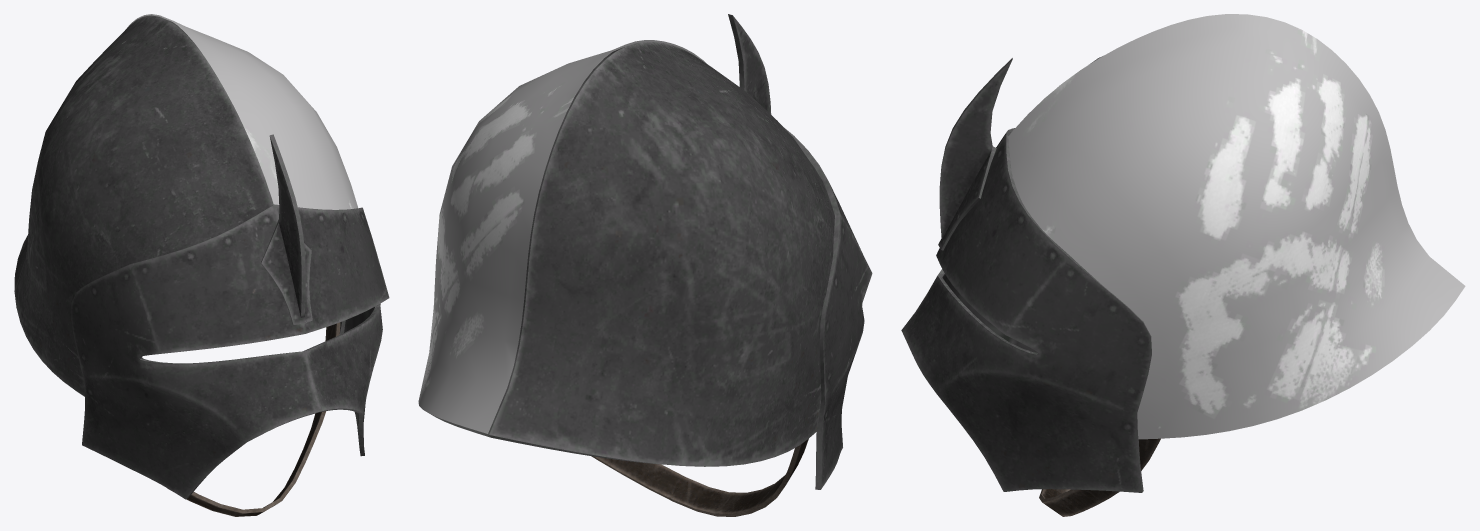
File: sk_uruk_hai_helmet_spear_light_a2.fbx
3 views of the same model, side by side, from view 1: azimuth 30°, elevation 25°; view 2: azimuth 150°, elevation 25°; view 3: azimuth 270°, elevation 25° (orthographic). The views are drawn at different scales.
Visible parts, largest first — view 1: sk_uruk_hai_helmet_spear_light_a2.2, sk_uruk_hai_helmet_spear_light_a2.0, sk_uruk_hai_helmet_spear_light_a2.1; view 2: sk_uruk_hai_helmet_spear_light_a2.2, sk_uruk_hai_helmet_spear_light_a2.0, sk_uruk_hai_helmet_spear_light_a2.1; view 3: sk_uruk_hai_helmet_spear_light_a2.0, sk_uruk_hai_helmet_spear_light_a2.2, sk_uruk_hai_helmet_spear_light_a2.1.
Part boxes in pixels (<box>): sk_uruk_hai_helmet_spear_light_a2.2: <box>14,15,389,499</box>; sk_uruk_hai_helmet_spear_light_a2.0: <box>125,14,357,209</box>; sk_uruk_hai_helmet_spear_light_a2.1: <box>167,322,340,516</box>; sk_uruk_hai_helmet_spear_light_a2.2: <box>431,14,872,489</box>; sk_uruk_hai_helmet_spear_light_a2.0: <box>418,40,706,433</box>; sk_uruk_hai_helmet_spear_light_a2.1: <box>591,439,808,516</box>; sk_uruk_hai_helmet_spear_light_a2.0: <box>1008,14,1465,439</box>; sk_uruk_hai_helmet_spear_light_a2.2: <box>901,56,1151,492</box>; sk_uruk_hai_helmet_spear_light_a2.1: <box>1039,438,1160,516</box>.
Size of the model in its own units: 0.2087 by 0.3239 by 0.3133.
3 materials, 3 textured.
